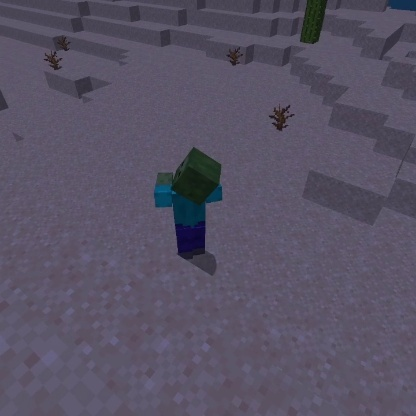zombie: (150, 144, 227, 263)
